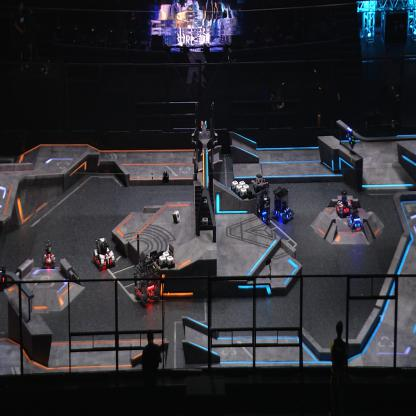car: (133, 257, 162, 306), (247, 178, 271, 225), (271, 185, 295, 223), (92, 236, 117, 270), (346, 201, 363, 231), (335, 188, 352, 218), (42, 240, 56, 269)
